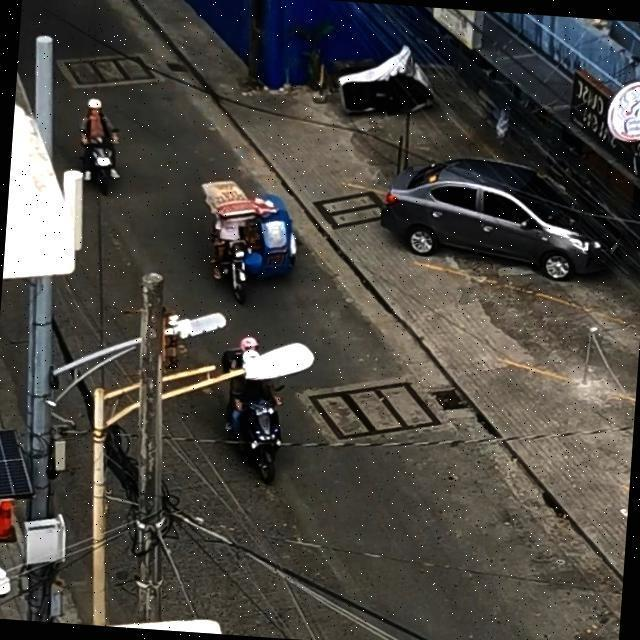Motorcycle: (222, 376, 288, 482), (74, 118, 125, 196)
Tricycle: (194, 177, 304, 306)
